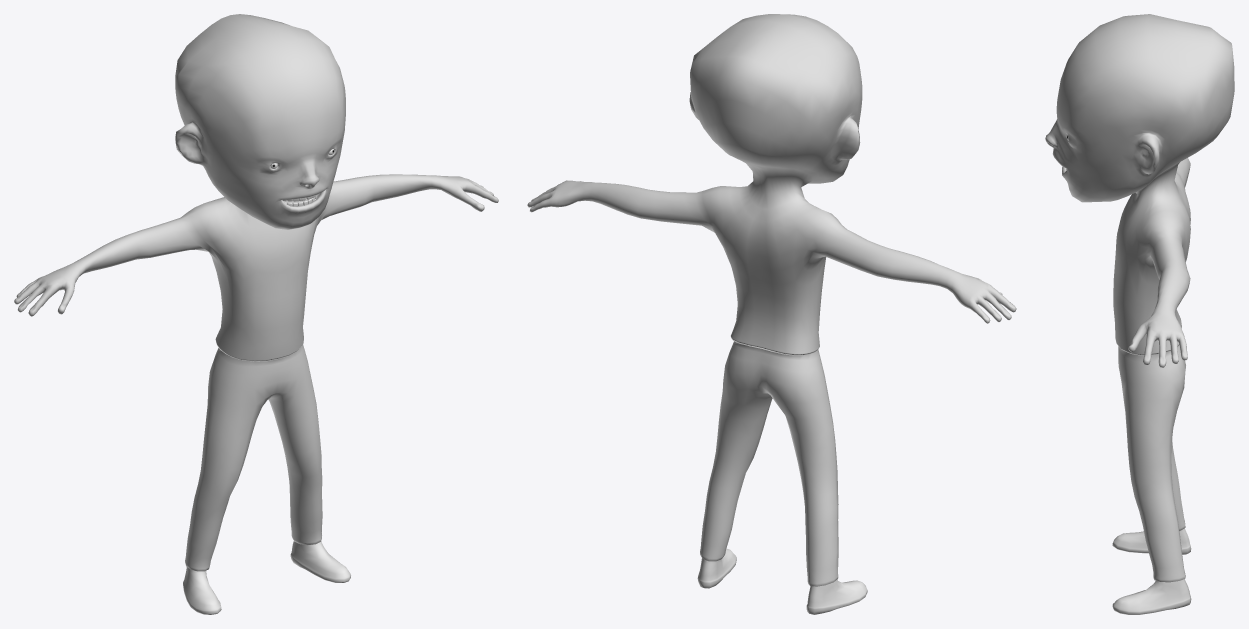
Rendered from FBX_ZOMBIE_01.fbx.
The picture shows the model from 3 angles, left to right: view 1: azimuth 30°, elevation 25°; view 2: azimuth 150°, elevation 25°; view 3: azimuth 270°, elevation 25°; orthographic projection.
Visible parts, largest first — view 1: ZOMBIE_03; view 2: ZOMBIE_03; view 3: ZOMBIE_03.
Part boxes in pixels (x1=…): ZOMBIE_03: x1=14, y1=14, x2=498, y2=614; ZOMBIE_03: x1=527, y1=14, x2=1016, y2=614; ZOMBIE_03: x1=1045, y1=14, x2=1234, y2=614.
Size of the model in its own units: 91.15 by 102 by 31.6.
